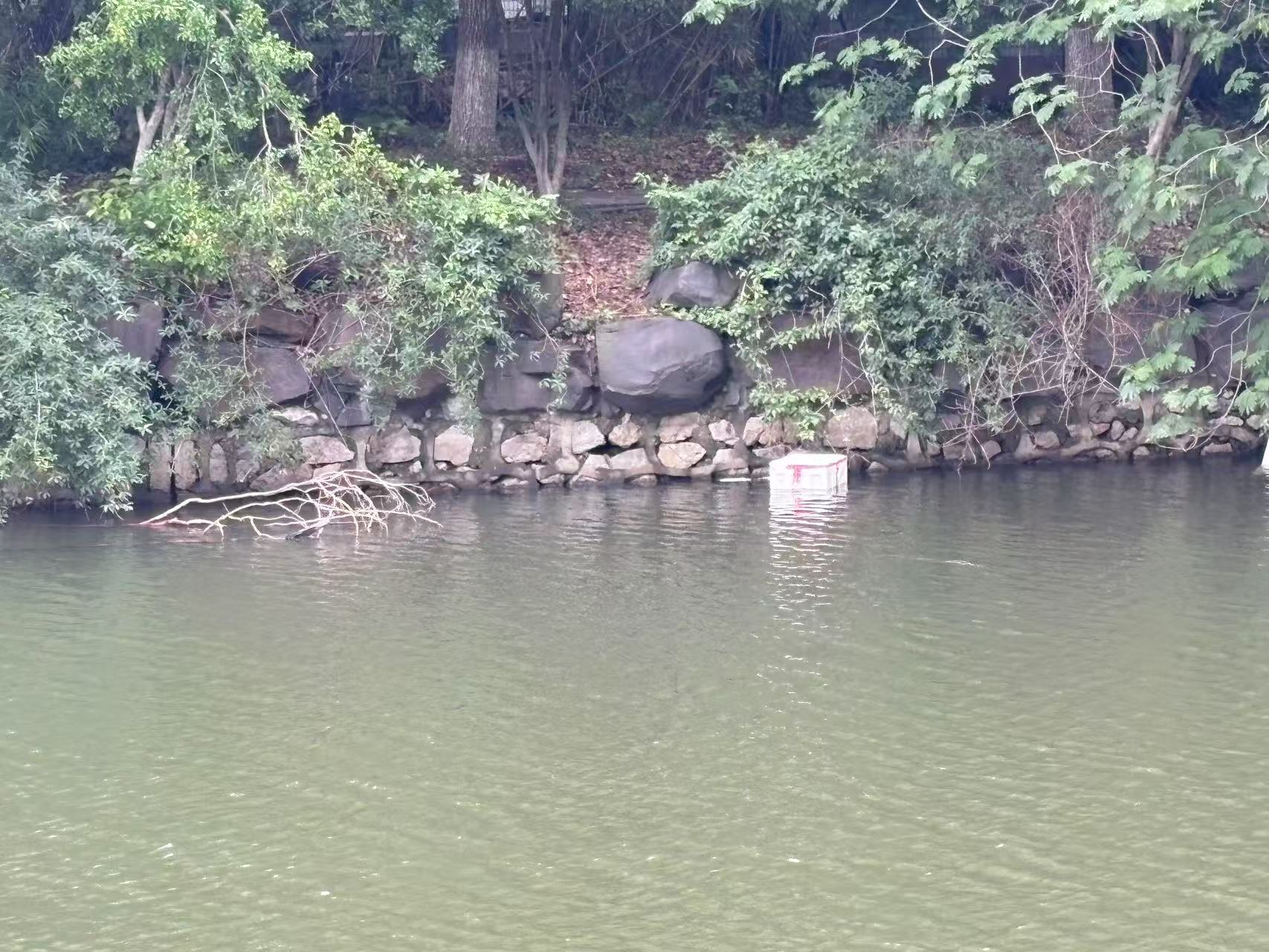Plastic wastes: (765, 443, 850, 499)
